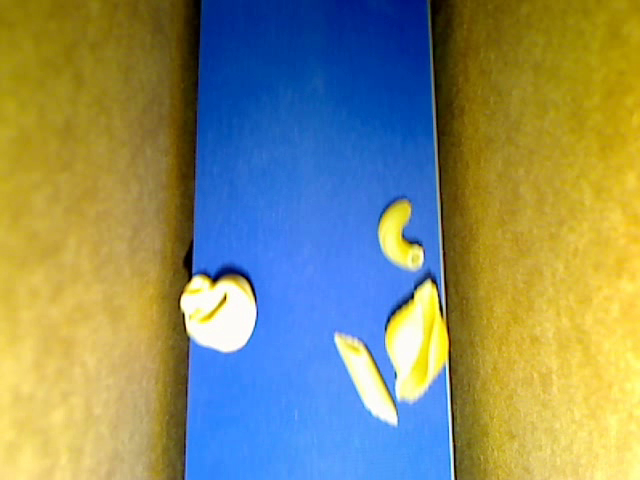elbow: (377, 197, 423, 270)
penne: (332, 332, 399, 427)
shell: (384, 278, 447, 401)
tortellini: (179, 273, 257, 353)
